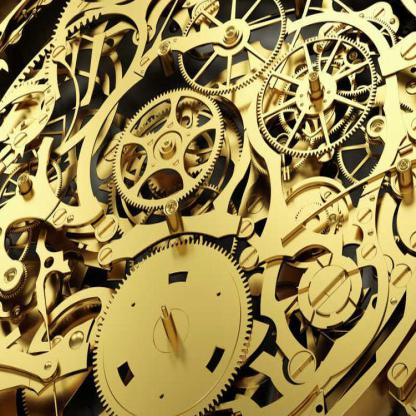FOD: (91, 231, 253, 415), (110, 86, 224, 211)
